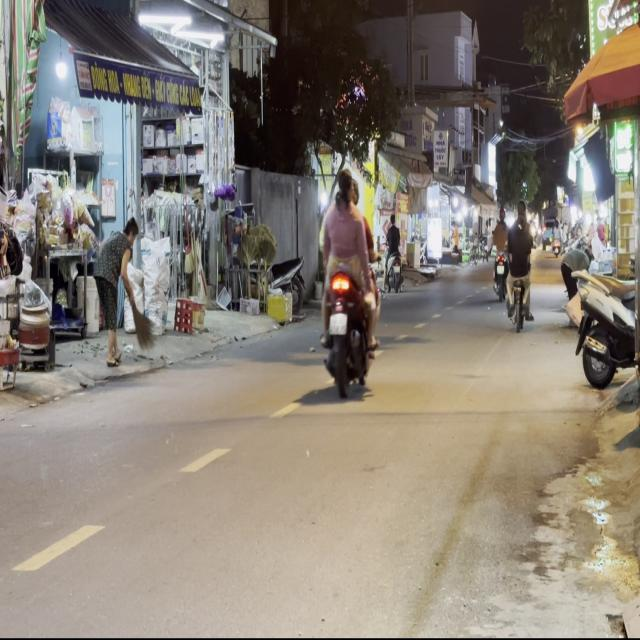licenseplate: (316, 163, 380, 396)
motorcyclist: (333, 167, 354, 206)
nohelmet: (329, 313, 346, 334)
